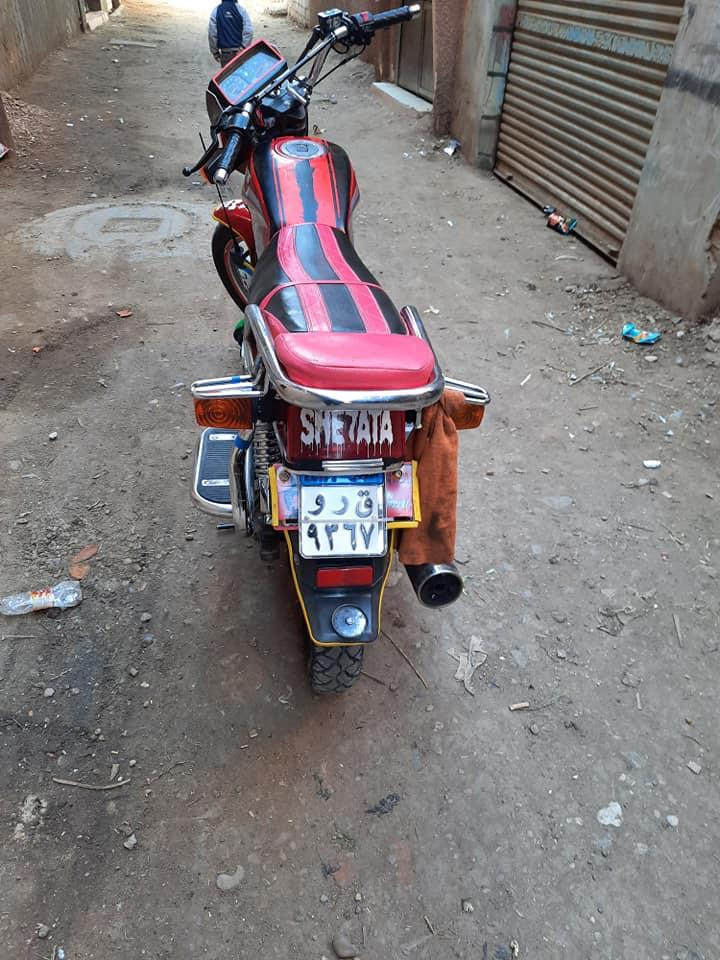License Plate: (292, 465, 390, 559)
